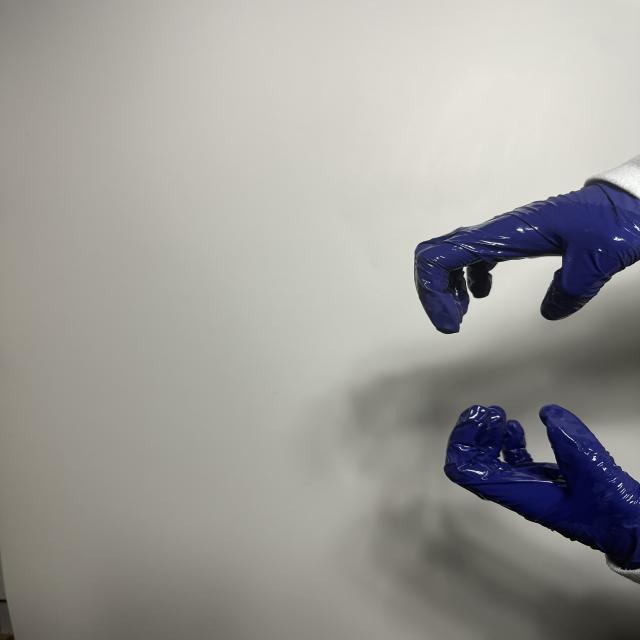gloves_contaminated: (414, 173, 640, 334), (444, 405, 640, 574)
